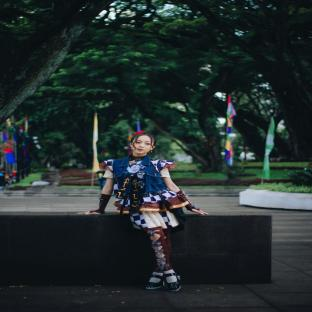Human: (79, 131, 207, 292)
